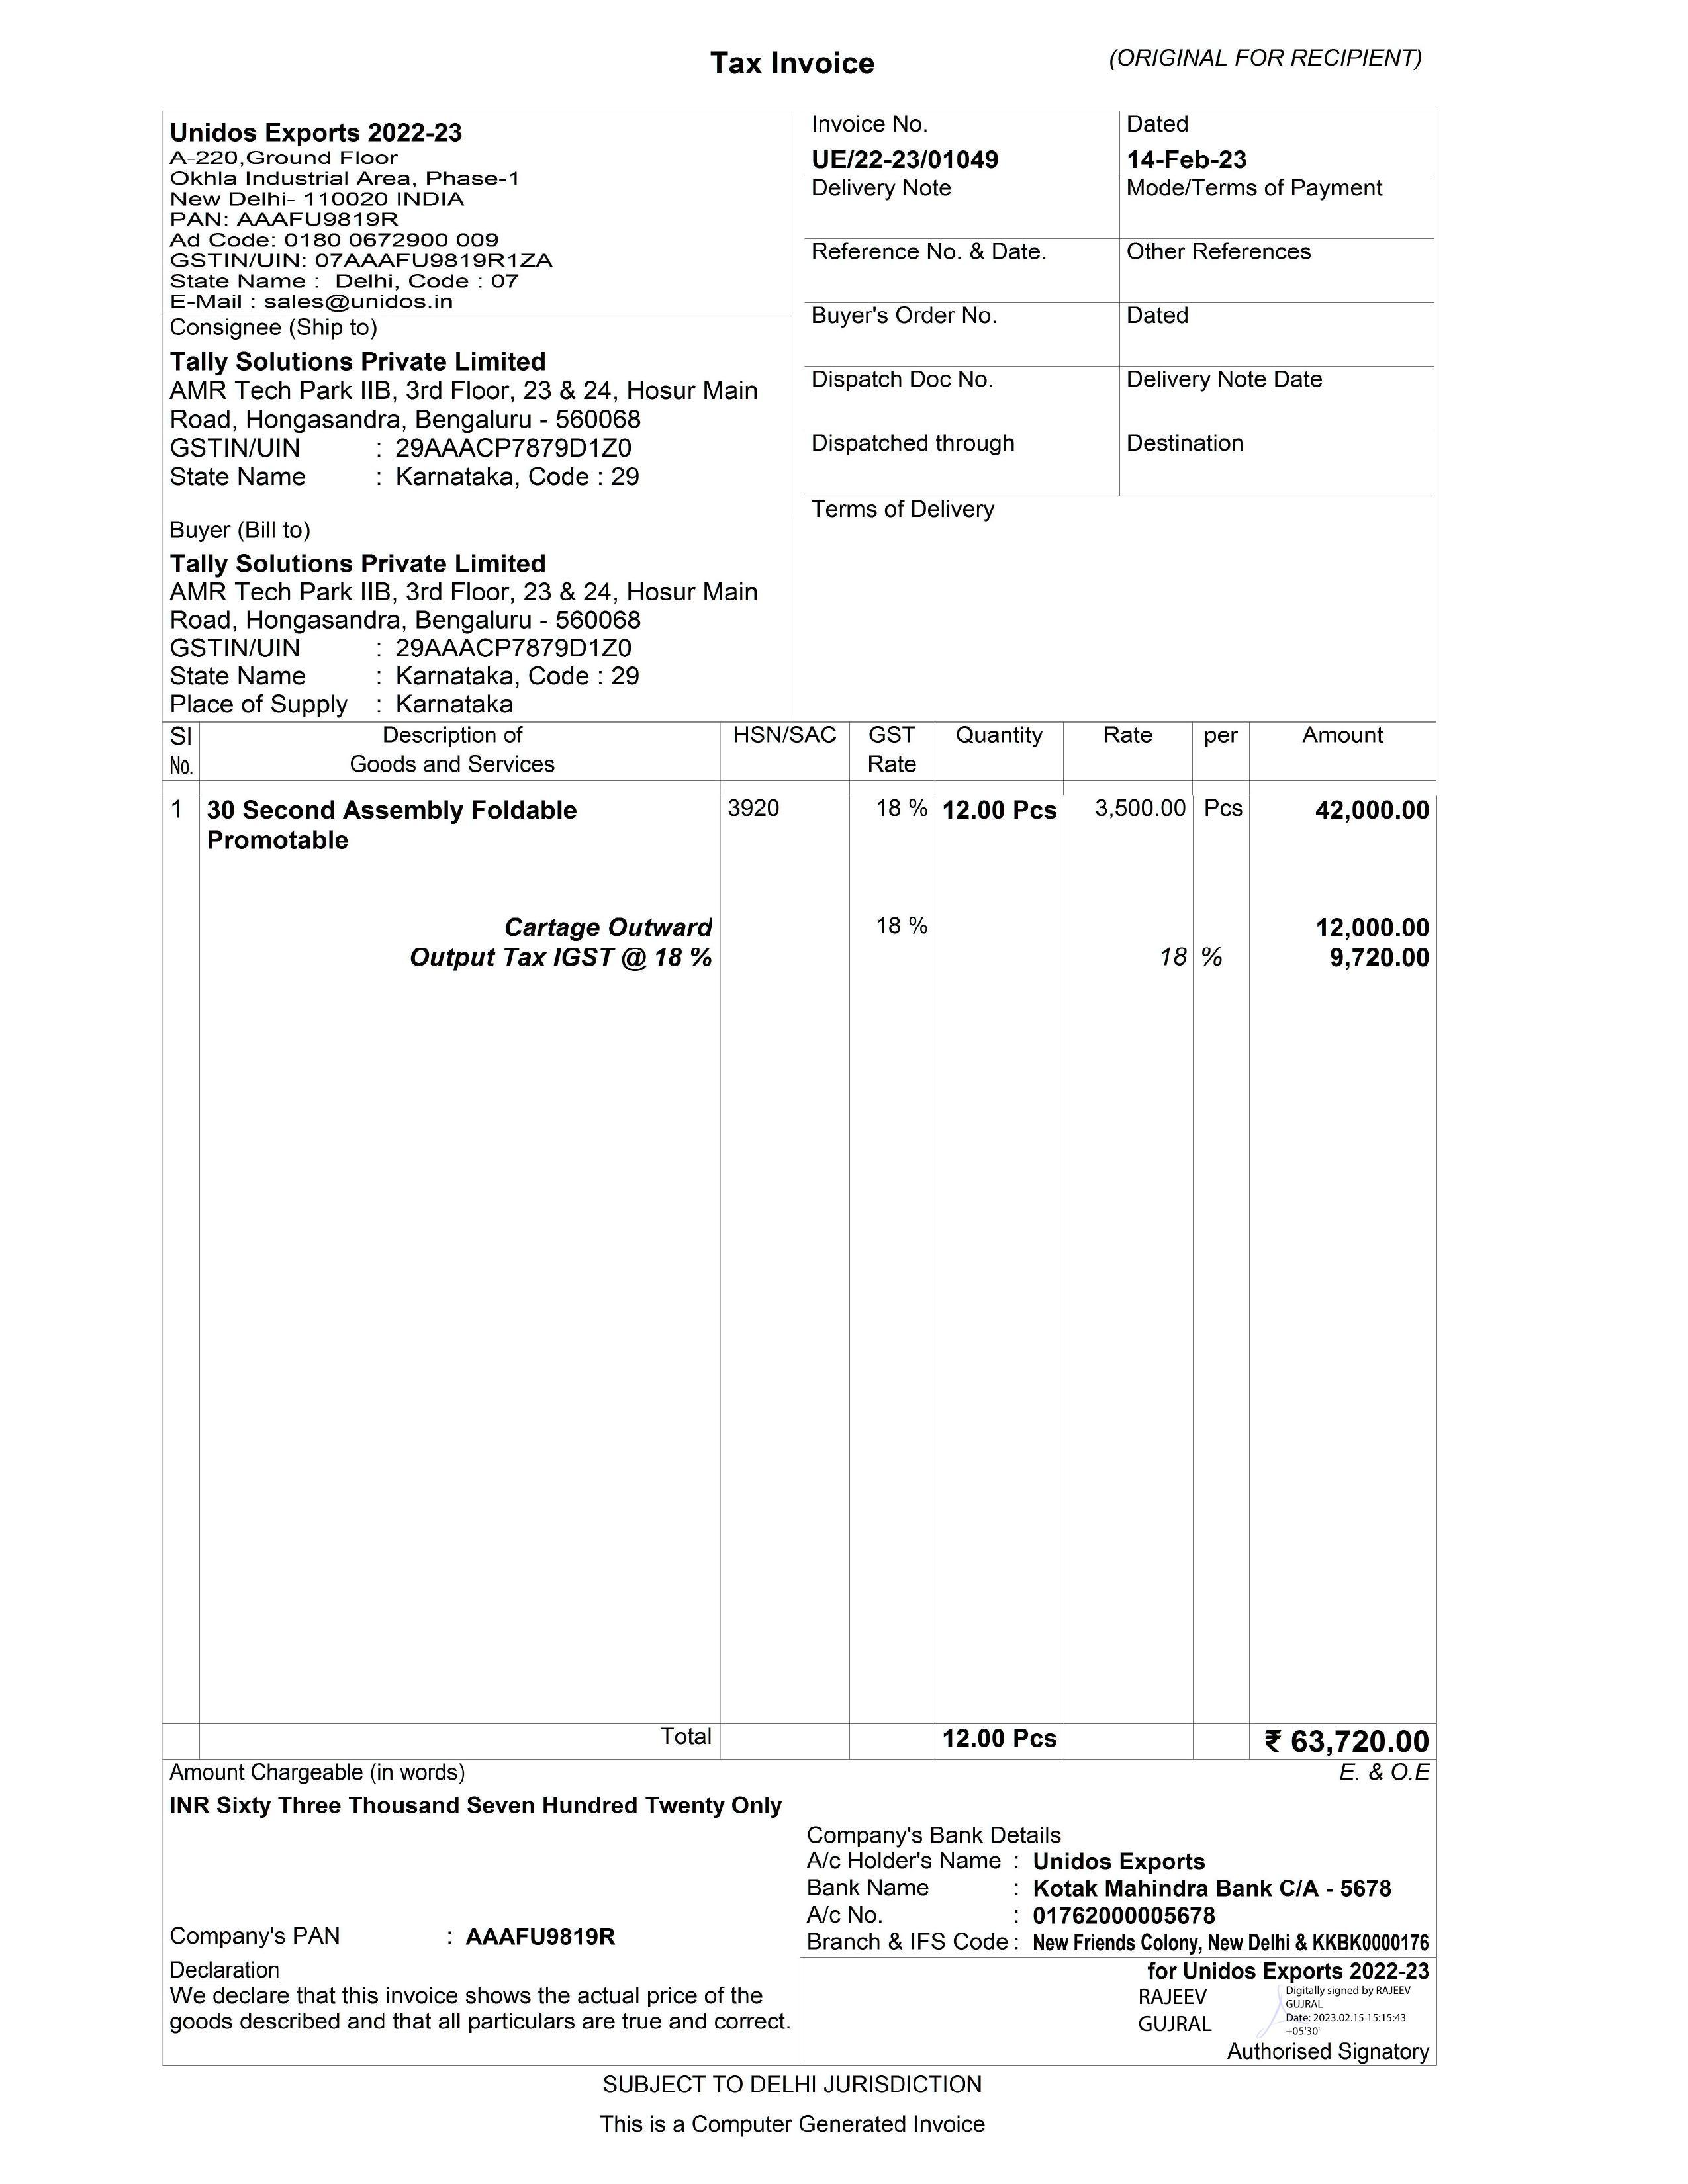InvoiceDate: (1119, 136, 1259, 181)
InvoiceNumber: (801, 142, 1005, 177)
TotalAmount: (1250, 1720, 1436, 1760)
